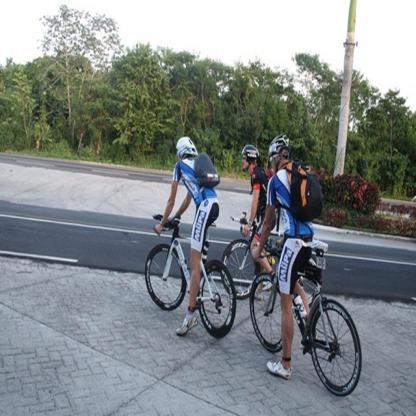face: (271, 152, 281, 173), (242, 153, 250, 170)
